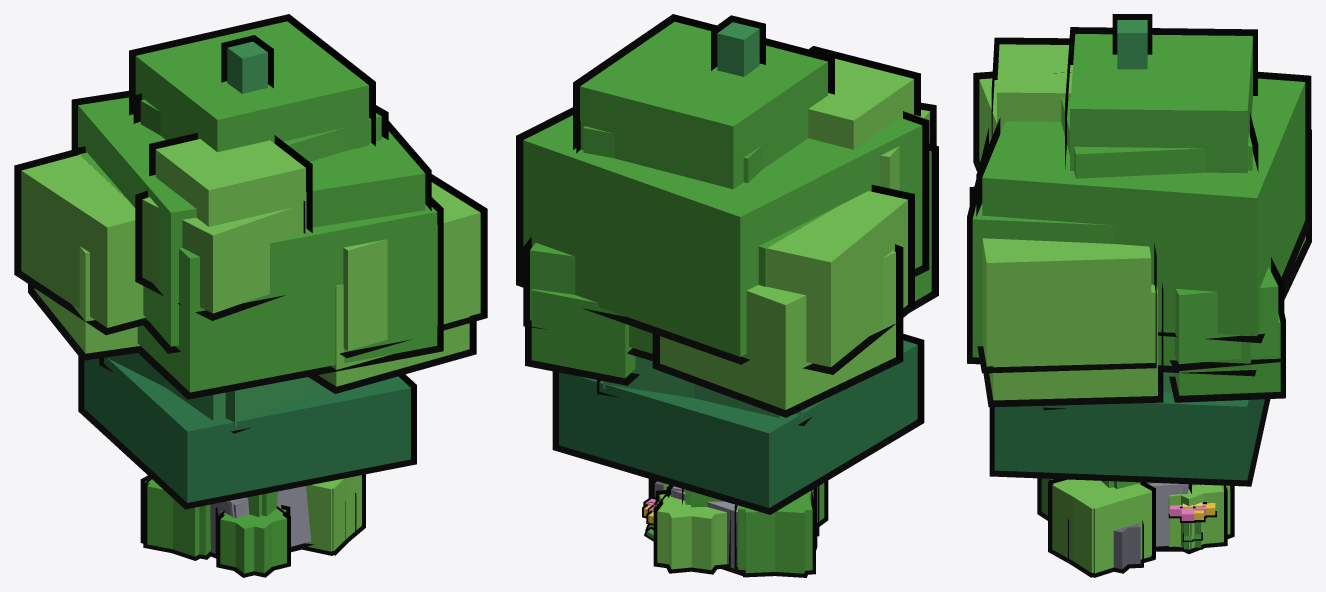
File: LobbyProps.fbx
3 renders of one model, left to right at view 1: azimuth 30°, elevation 25°; view 2: azimuth 150°, elevation 25°; view 3: azimuth 270°, elevation 25°, orthographic. The views are drawn at different scales.
Visible parts, largest first — view 1: Tree_2_Leaves, Tree_2_LeavesLight, Tree_Leaves, Tree_LeavesLight, PineTree_Pine, PineTree_2_Pine, Tree_2_Outline, Tree_Outline, PineTree_PineLight, Bush_Leaves, Bush_2_Leaves, PineTree_2_Outline (+8 smaller); view 2: Tree_2_Leaves, Tree_2_LeavesLight, PineTree_2_Pine, PineTree_Pine, Tree_LeavesLight, Tree_Leaves, Tree_2_Outline, Tree_Outline, PineTree_PineLight, Bush_2_Leaves, PineTree_2_Outline, Bush_Leaves (+7 smaller); view 3: Tree_2_Leaves, Tree_2_LeavesLight, Tree_Leaves, PineTree_Pine, PineTree_2_Pine, Tree_2_Outline, Tree_LeavesLight, Tree_Outline, Bush_2_LeavesLight, Bush_LeavesLight, PineTree_Outline, PineTree_PineLight (+5 smaller).
Part boxes in pixels (bbox=[...]): Tree_2_Leaves: bbox=[78, 21, 425, 346]; Tree_2_LeavesLight: bbox=[21, 139, 480, 350]; Tree_Leaves: bbox=[79, 99, 437, 392]; Tree_LeavesLight: bbox=[34, 197, 469, 386]; PineTree_Pine: bbox=[84, 357, 410, 502]; PineTree_2_Pine: bbox=[135, 376, 410, 502]; Tree_2_Outline: bbox=[14, 14, 487, 358]; Tree_Outline: bbox=[28, 93, 476, 552]; PineTree_PineLight: bbox=[105, 41, 306, 426]; Bush_Leaves: bbox=[147, 480, 286, 573]; Bush_2_Leaves: bbox=[144, 479, 286, 573]; PineTree_2_Outline: bbox=[79, 374, 416, 509]; Tree_2_Leaves: bbox=[523, 21, 922, 356]; Tree_2_LeavesLight: bbox=[758, 58, 913, 367]; PineTree_2_Pine: bbox=[579, 345, 917, 507]; PineTree_Pine: bbox=[559, 340, 917, 507]; Tree_LeavesLight: bbox=[660, 109, 929, 409]; Tree_Leaves: bbox=[531, 126, 931, 378]; Tree_2_Outline: bbox=[516, 14, 929, 374]; Tree_Outline: bbox=[525, 102, 938, 417]; PineTree_PineLight: bbox=[603, 22, 806, 419]; Bush_2_Leaves: bbox=[691, 483, 824, 573]; PineTree_2_Outline: bbox=[621, 334, 924, 514]; Bush_Leaves: bbox=[685, 489, 812, 573]; Tree_2_Leaves: bbox=[982, 34, 1305, 364]; Tree_2_LeavesLight: bbox=[982, 44, 1151, 366]; Tree_Leaves: bbox=[972, 97, 1280, 395]; PineTree_Pine: bbox=[994, 392, 1258, 479]; PineTree_2_Pine: bbox=[1121, 392, 1264, 480]; Tree_2_Outline: bbox=[969, 27, 1311, 373]; Tree_LeavesLight: bbox=[979, 78, 1305, 400]; Tree_Outline: bbox=[967, 71, 1311, 551]; Bush_2_LeavesLight: bbox=[1052, 480, 1223, 573]; Bush_LeavesLight: bbox=[1053, 479, 1230, 572]; PineTree_Outline: bbox=[989, 14, 1270, 486]; PineTree_PineLight: bbox=[1117, 20, 1147, 69].
Size of the model in its own units: 15.41 by 22.28 by 13.58.
16 materials, 16 textured.
